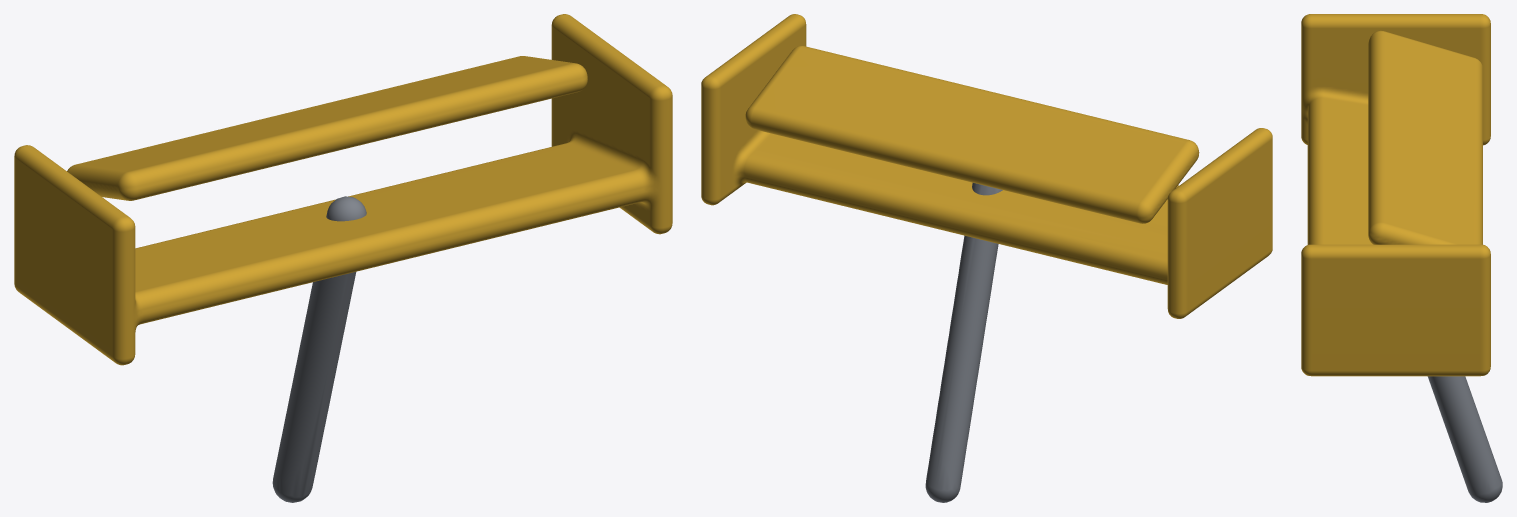
File: twin.glb
The picture shows the model from 3 angles, left to right: view 1: azimuth 30°, elevation 25°; view 2: azimuth 150°, elevation 25°; view 3: azimuth 270°, elevation 25°; orthographic projection. The views are drawn at different scales.
Parts seen in each view (by area): view 1: Wing, WingStruts; view 2: Wing, WingStruts; view 3: Wing, WingStruts.
Part boxes in pixels (x1,y1,x2,y2): Wing: (14, 14, 672, 365); WingStruts: (272, 196, 366, 502); Wing: (701, 14, 1272, 318); WingStruts: (925, 183, 1002, 502); Wing: (1301, 14, 1490, 376); WingStruts: (1427, 376, 1502, 502).
Size of the model in its own units: 0.956 by 0.6967 by 0.3401.
